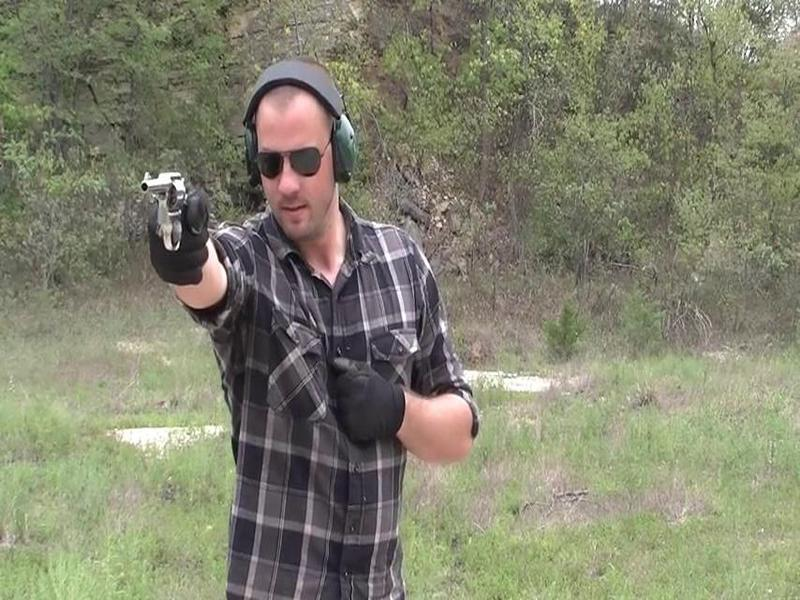Revolver: (126, 166, 209, 269)
